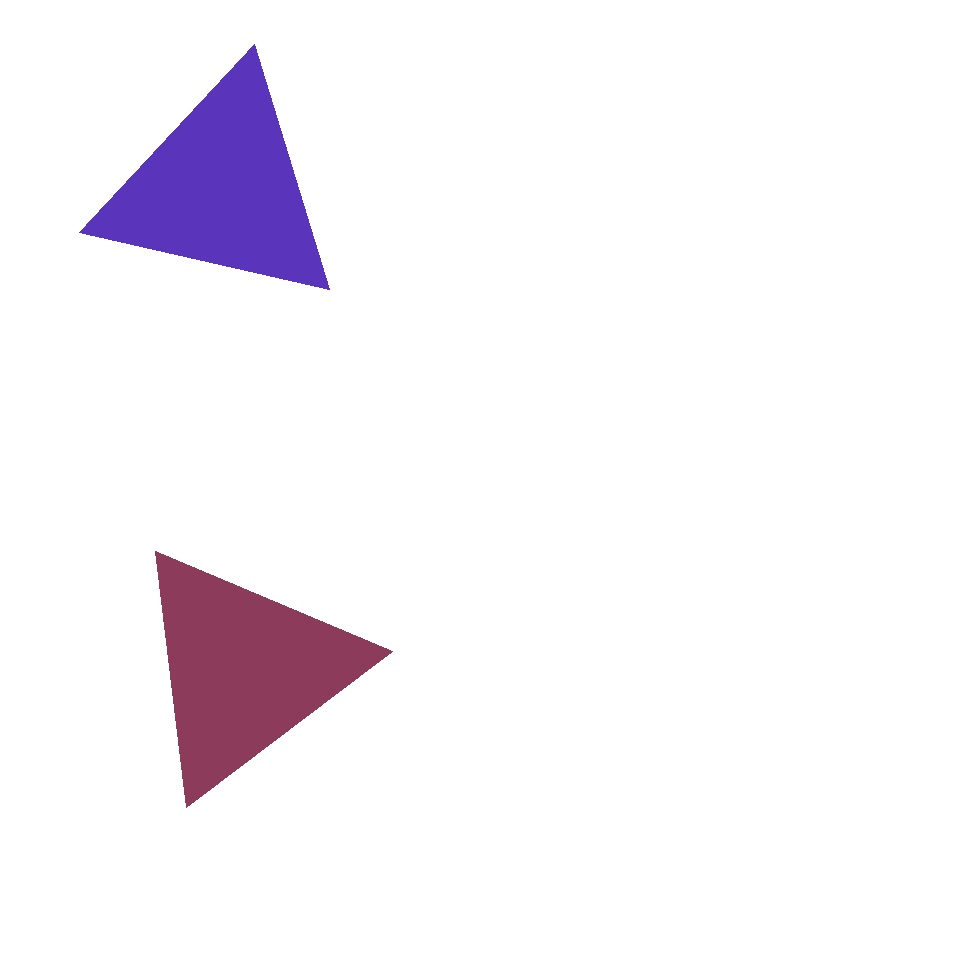circle: (96, 66, 346, 312), (126, 542, 364, 798)
square: (642, 634, 888, 878), (756, 484, 936, 664), (52, 15, 188, 150)
triangle: (644, 250, 931, 536), (314, 661, 515, 862), (86, 535, 232, 680)
